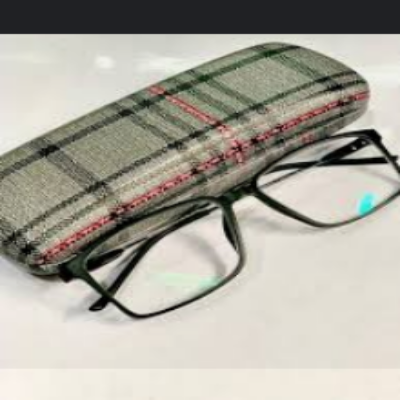glasses: (61, 126, 400, 316)
